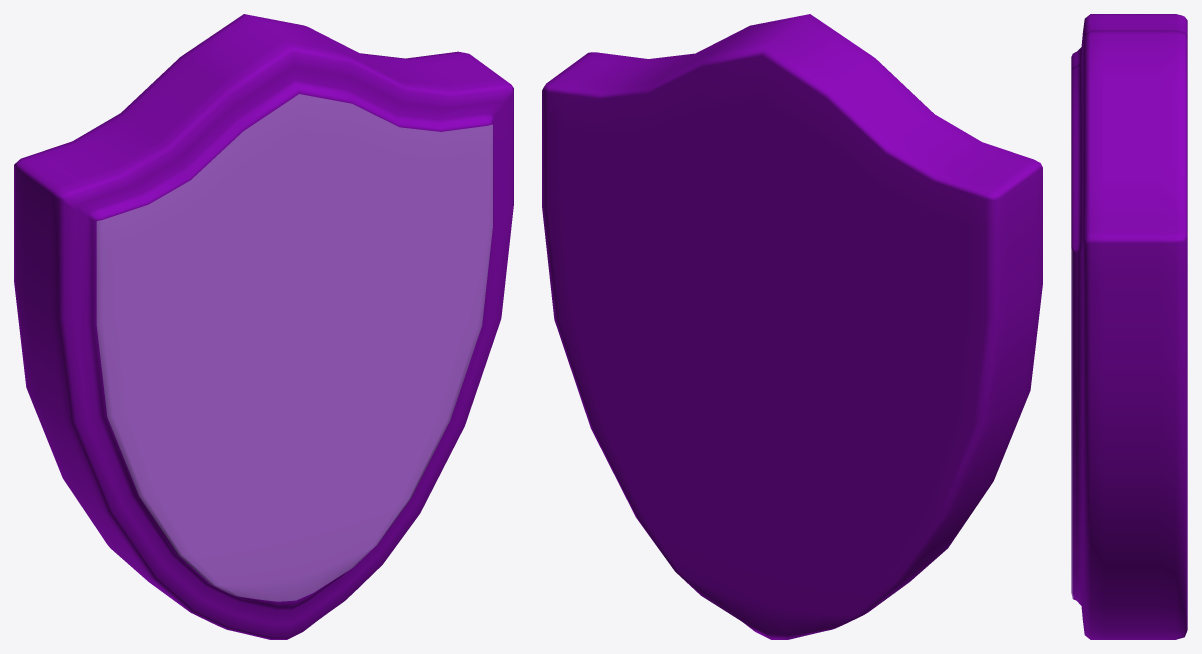
Rendered from Shield.fbx.
3 views of the same model, side by side, from view 1: azimuth 30°, elevation 25°; view 2: azimuth 150°, elevation 25°; view 3: azimuth 270°, elevation 25° (orthographic).
Parts seen in each view (by area): view 1: Shield; view 2: Shield; view 3: Shield.
Part boxes in pixels (left/top/right/bottom): Shield: left=14, top=14, right=513, bottom=639; Shield: left=542, top=14, right=1042, bottom=639; Shield: left=1071, top=14, right=1187, bottom=639.
Size of the model in its own units: 3.72 by 4.63 by 0.8084.
